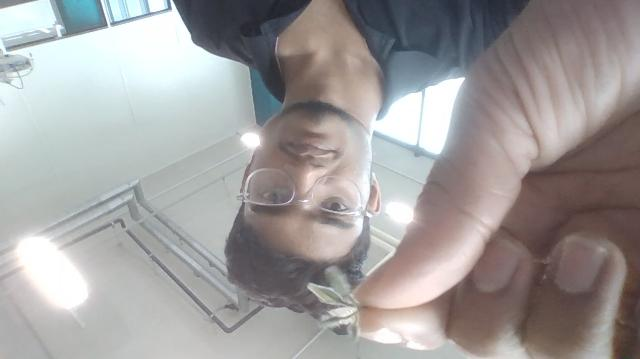Flower Bud: (324, 264, 356, 301), (307, 284, 351, 308)
